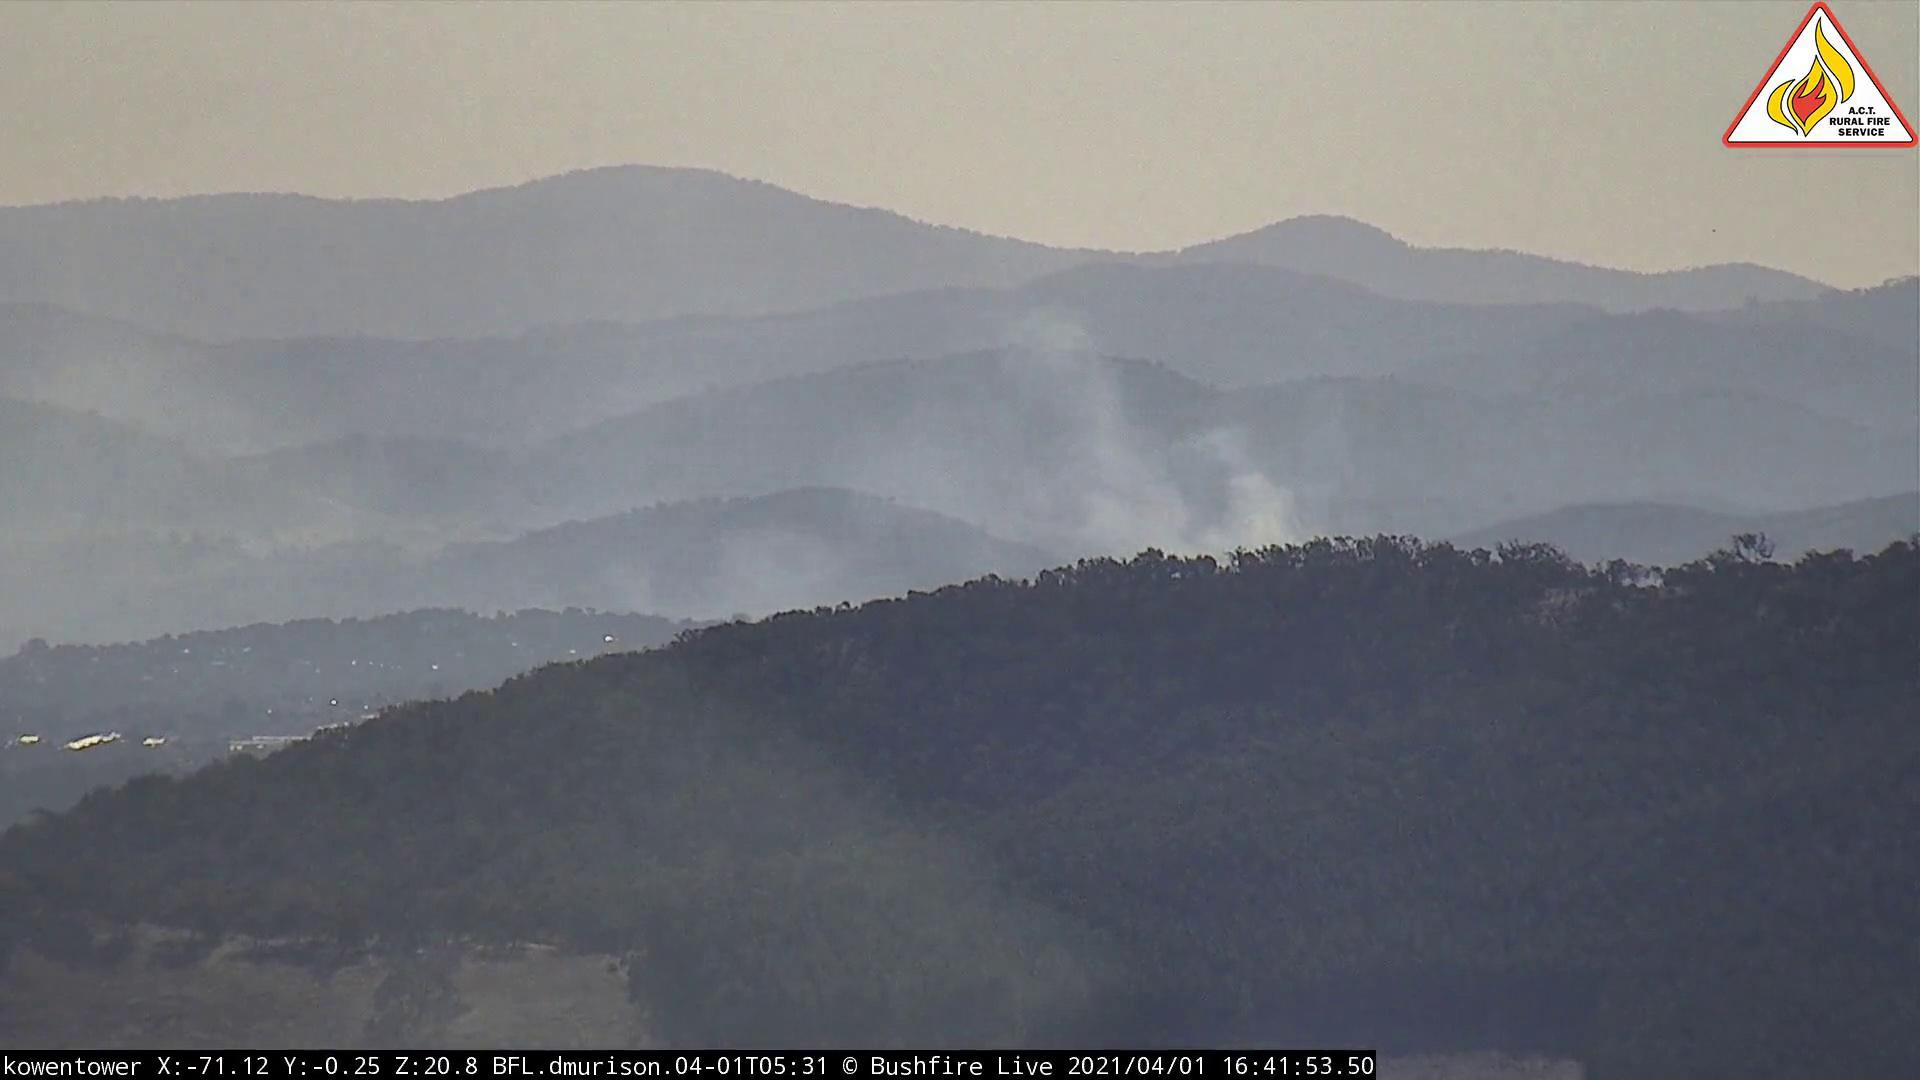instance_salient_object: (553, 266, 1329, 671)
